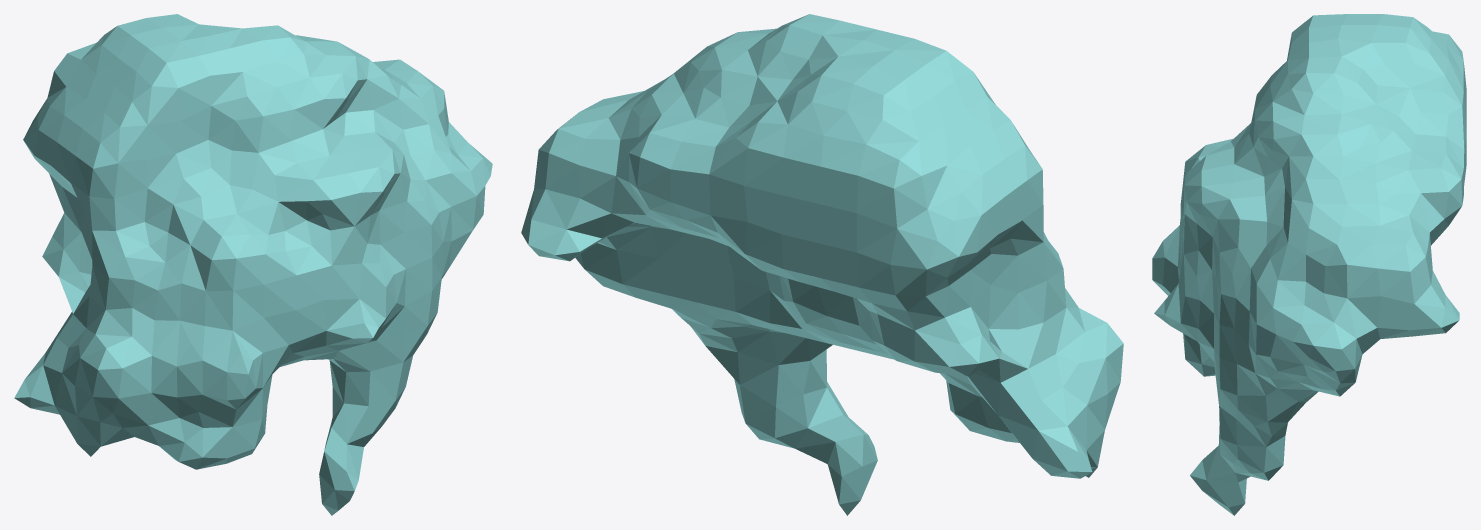
The model's file is aseg_018_Left-Amygdala.glb.
3 views of the same model, side by side, from view 1: azimuth 30°, elevation 25°; view 2: azimuth 150°, elevation 25°; view 3: azimuth 270°, elevation 25° (orthographic). The views are drawn at different scales.
Bounding box in the file's own units: 14.6 × 13.75 × 8.8.
